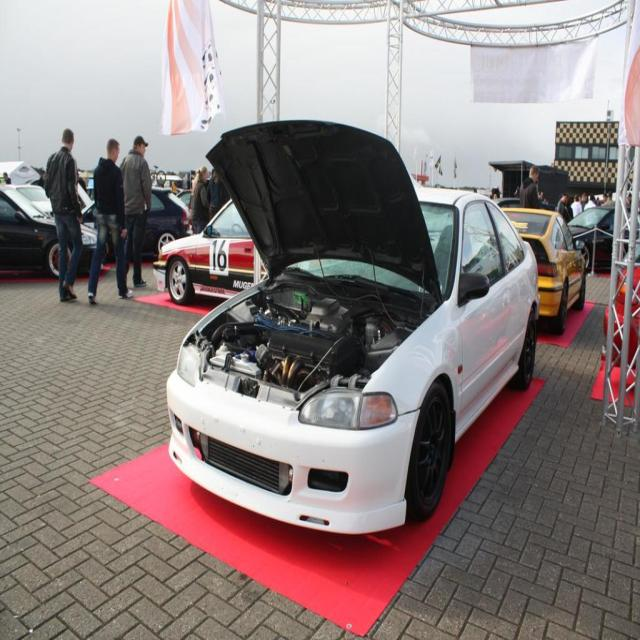car: (152, 142, 550, 539)
